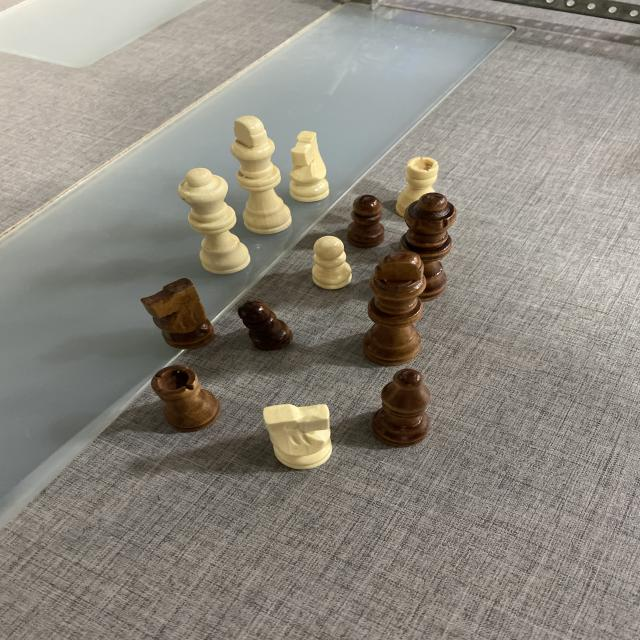Black-Bishop: (372, 369, 434, 446)
Black-King: (362, 254, 432, 361)
Black-Knight: (142, 276, 214, 350)
Black-Pawn: (240, 301, 295, 348), (346, 192, 388, 246)
Black-Queen: (401, 194, 448, 300)
Black-Rook: (152, 366, 218, 427)
White-King: (228, 113, 296, 233)
White-Knight: (262, 403, 338, 468), (288, 131, 331, 205)
White-Pawn: (312, 232, 354, 293)
White-Queen: (180, 166, 252, 272)
White-Rook: (397, 156, 444, 211)
